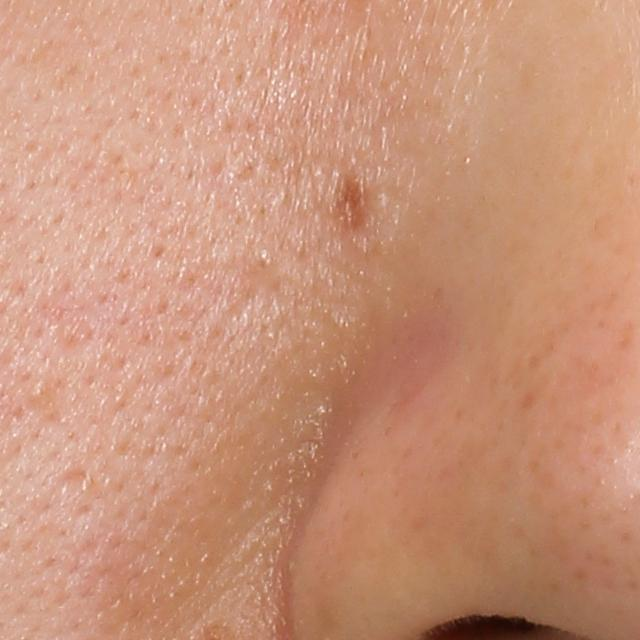atrophic_scar: (49, 463, 87, 498)
nevus: (319, 174, 367, 237)
